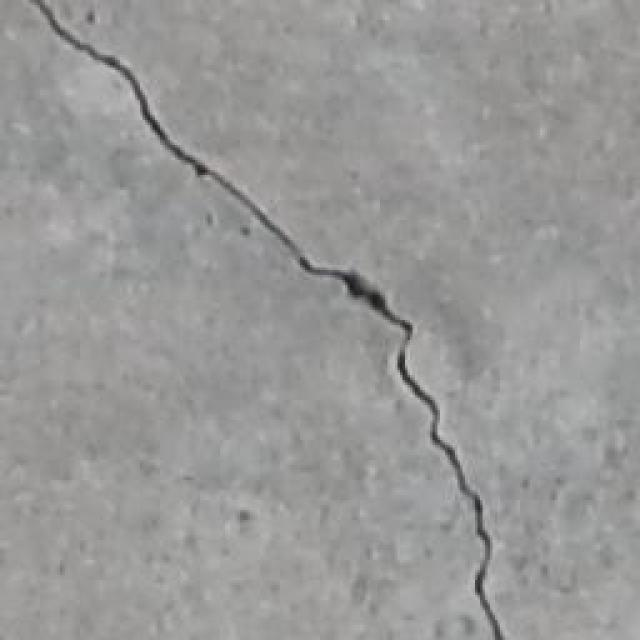concrete-crack: (25, 0, 505, 640)
